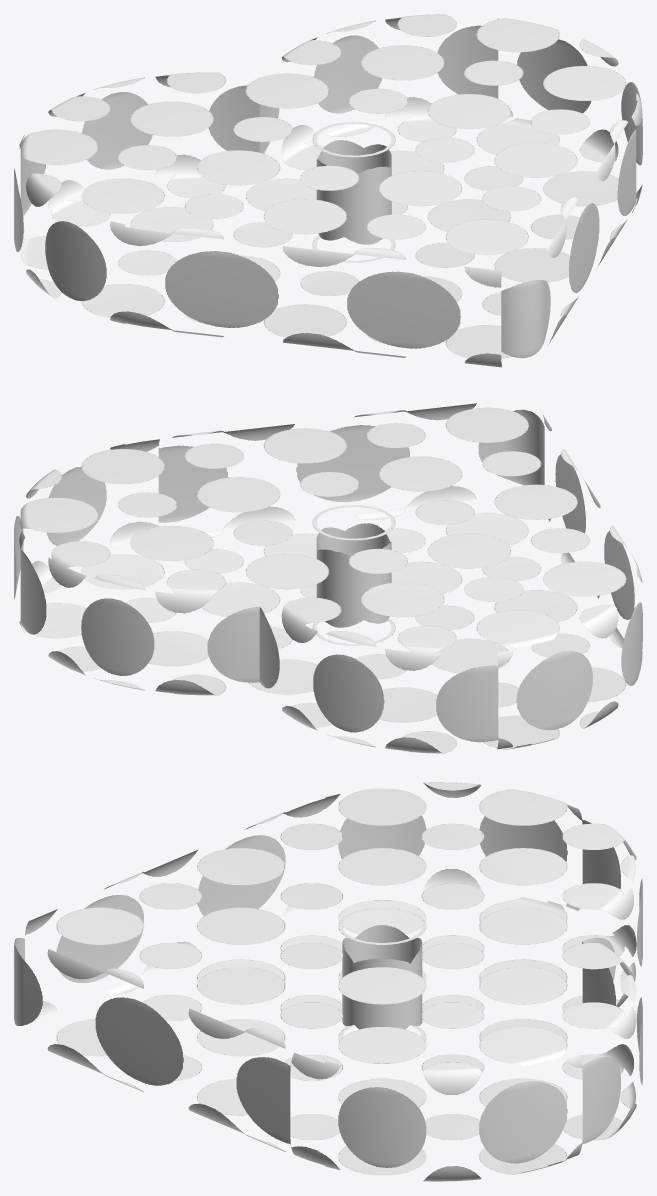
3 renders of one model, top to bottom at view 1: azimuth 30°, elevation 25°; view 2: azimuth 150°, elevation 25°; view 3: azimuth 270°, elevation 25°, orthographic. The views are drawn at different scales.
Visible parts, largest first — view 1: Heart.009; view 2: Heart.009; view 3: Heart.009.
Part boxes in pixels (<box>): Heart.009: <box>14,14,642,367</box>; Heart.009: <box>14,403,642,753</box>; Heart.009: <box>14,782,642,1181</box>.
Bounding box in the file's own units: 413 × 72 × 368.
